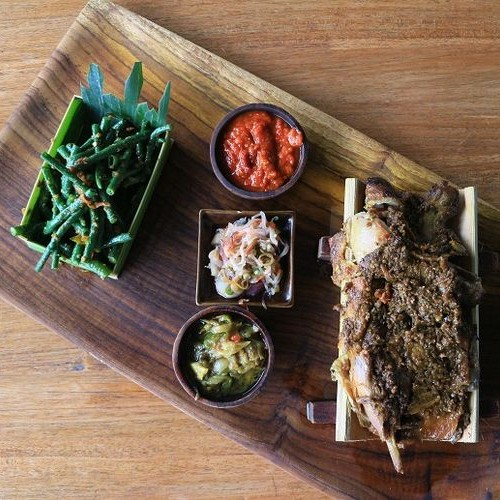bebek timbungan: (336, 161, 480, 462)
